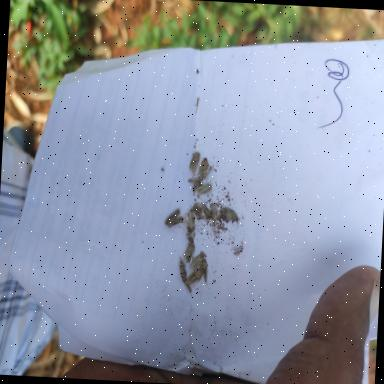pbw: (220, 206, 240, 229), (198, 156, 214, 179), (189, 250, 204, 270), (188, 150, 200, 174), (183, 241, 195, 263), (188, 268, 204, 284), (165, 207, 180, 224), (200, 201, 212, 219), (184, 212, 195, 231), (196, 182, 212, 195), (169, 215, 184, 228), (178, 256, 186, 280), (200, 258, 208, 282), (210, 203, 218, 221), (184, 280, 192, 290)
